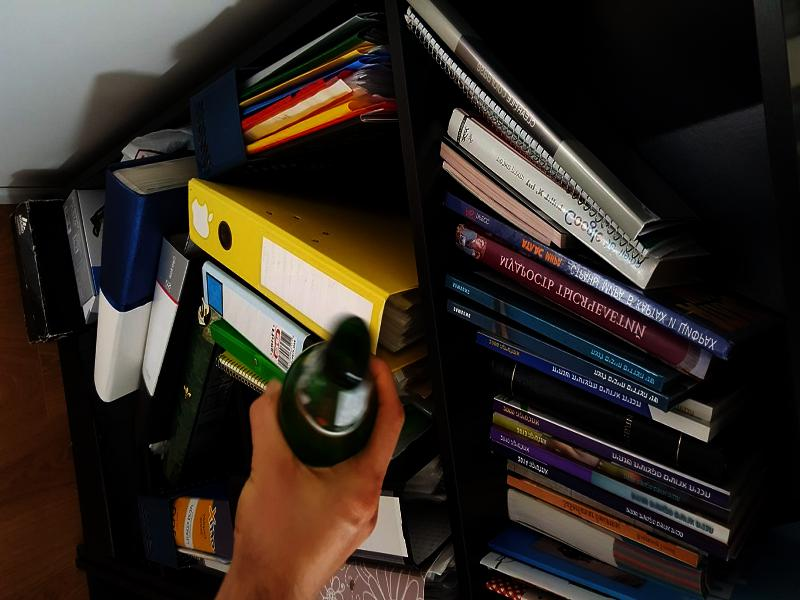Beer: (278, 317, 376, 466)
